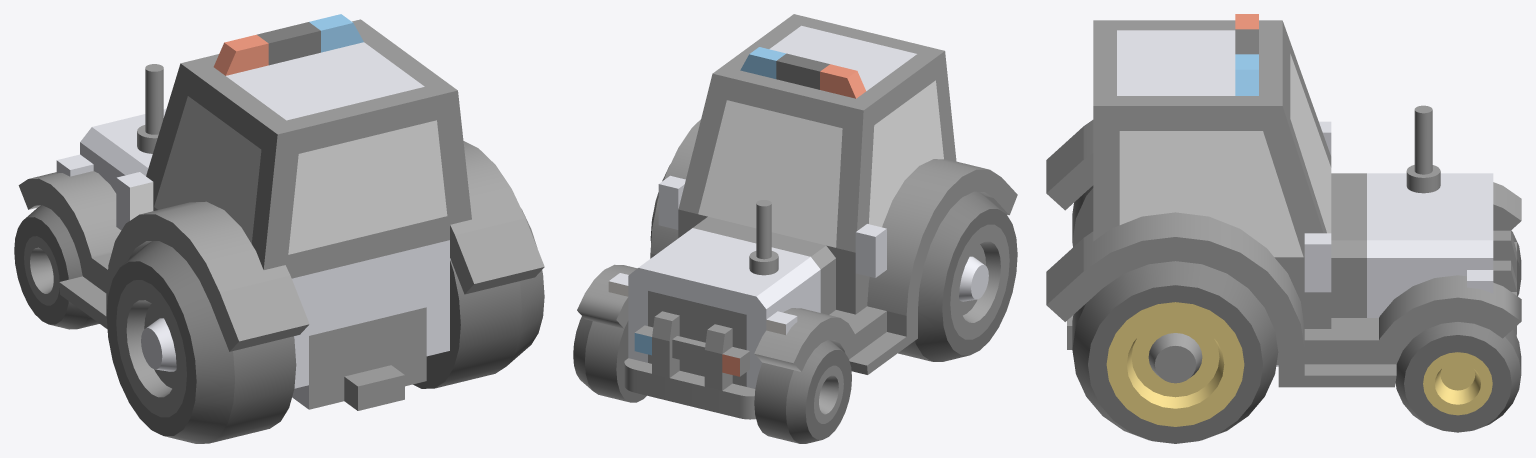
Rendered from tractorPolice.glb.
3 renders of one model, left to right at view 1: azimuth 30°, elevation 25°; view 2: azimuth 150°, elevation 25°; view 3: azimuth 270°, elevation 25°, orthographic. The views are drawn at different scales.
Parts seen in each view (by area): view 1: body, skirts, wheel_backLeft, wheel_backRight, wheel_frontLeft; view 2: body, skirts, wheel_backLeft, grill, wheel_frontLeft, wheel_frontRight; view 3: body, skirts, wheel_backRight, wheel_frontRight, grill, wheel_backLeft.
Part boxes in pixels (x1,y1,x2,y2): body: (56, 14, 471, 410); skirts: (18, 141, 544, 351); wheel_backLeft: (106, 241, 296, 443); wheel_backRight: (413, 208, 544, 388); wheel_frontLeft: (14, 205, 99, 329); body: (608, 14, 956, 388); skirts: (577, 119, 1017, 374); wheel_backLeft: (898, 191, 1017, 361); grill: (624, 311, 755, 419); wheel_frontLeft: (754, 340, 851, 443); wheel_frontRight: (573, 316, 646, 402); body: (1067, 14, 1493, 366); skirts: (1046, 120, 1521, 387); wheel_backRight: (1072, 261, 1278, 443); wheel_frontRight: (1395, 322, 1521, 432); grill: (1493, 230, 1516, 336); wheel_backLeft: (1072, 185, 1093, 246).
Bounding box in the file's own units: 1.66 × 1.56 × 2.02.
